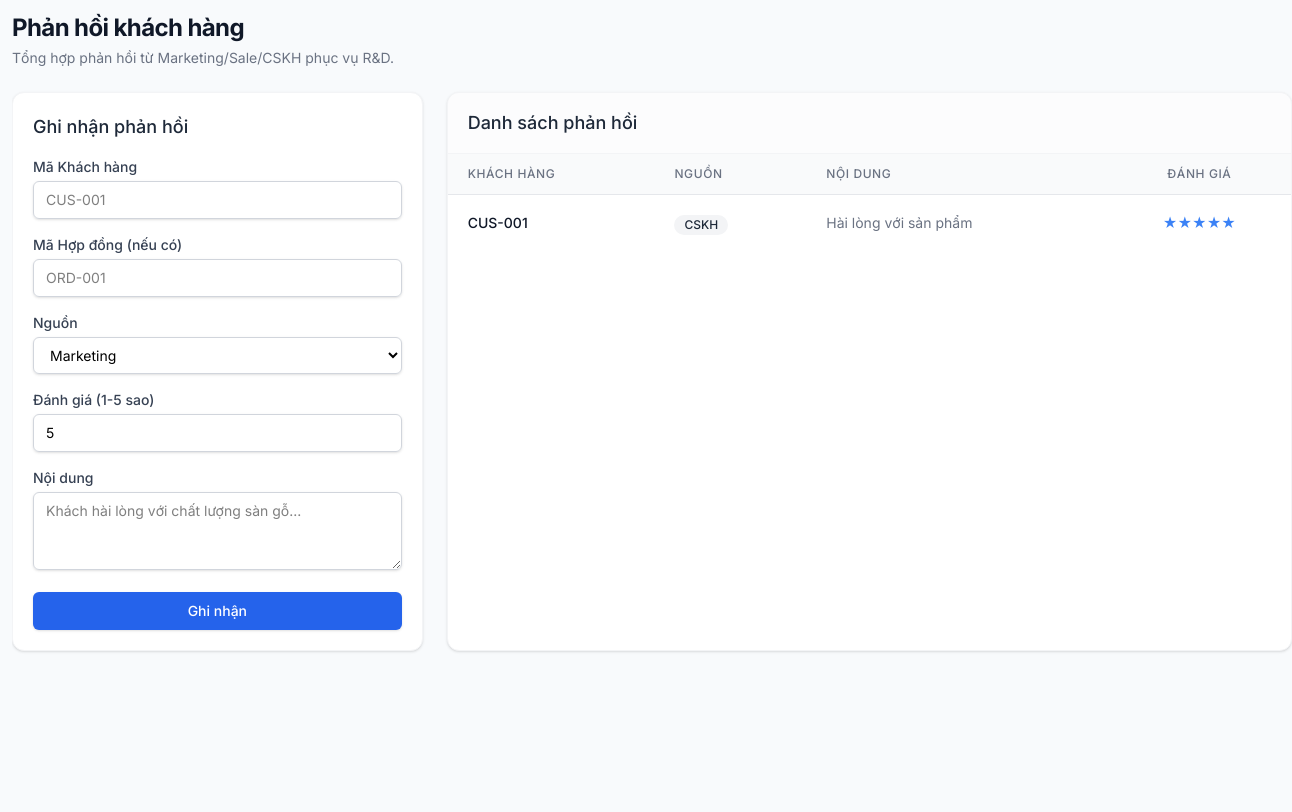
Test: FeedbacksPage › hiển thị danh sách phản hồi và ghi nhận mới qua form
The width and height of the screenshot is (1292, 812).
expect the text "Hài lòng với sản phẩm" is shown: met, box top-left (806, 194), bottom-right (1108, 251)
Step 1. Type "CUS-002" into the field labelled "Mã Khách hàng" → x=217, y=200, box top-left (33, 181), bottom-right (402, 219)
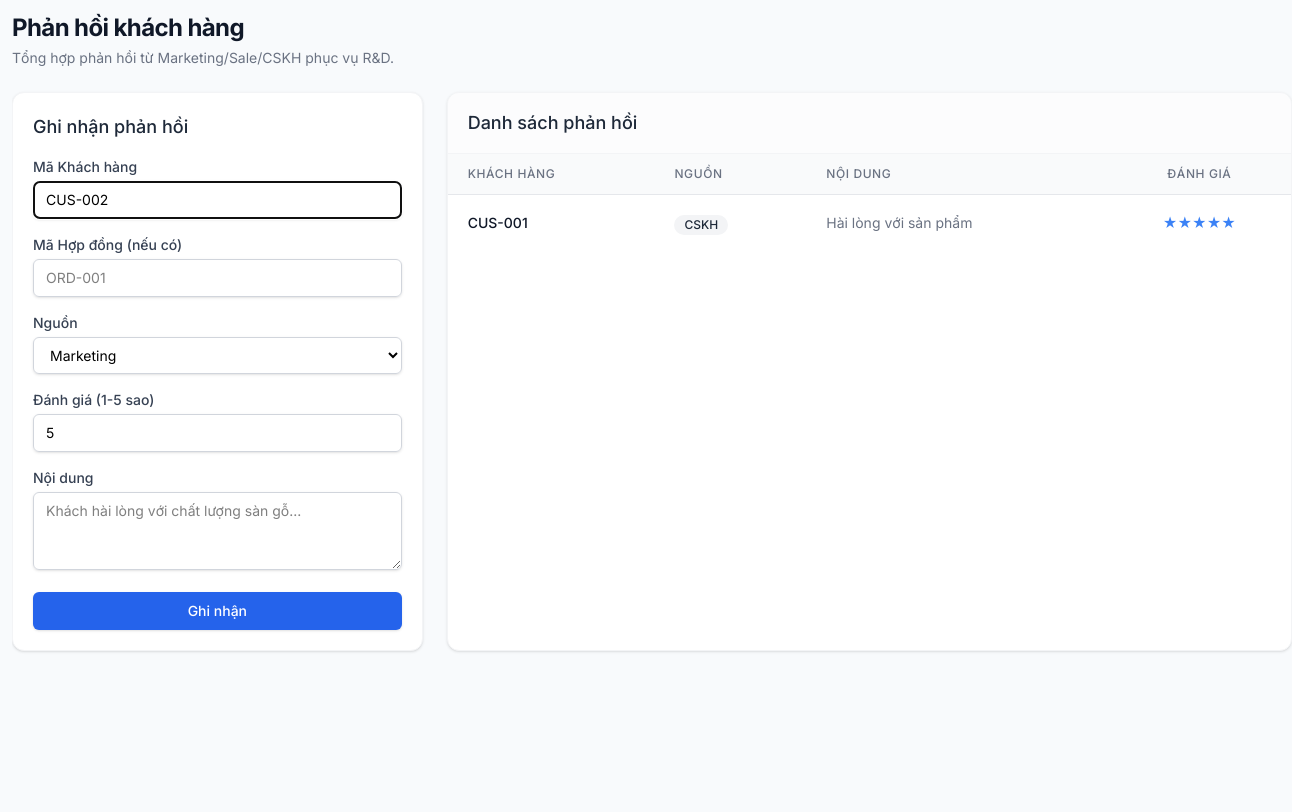
Step 2. Select "Sale" in the dropdown labelled "Nguồn" → x=217, y=356, box top-left (33, 337), bottom-right (402, 374)
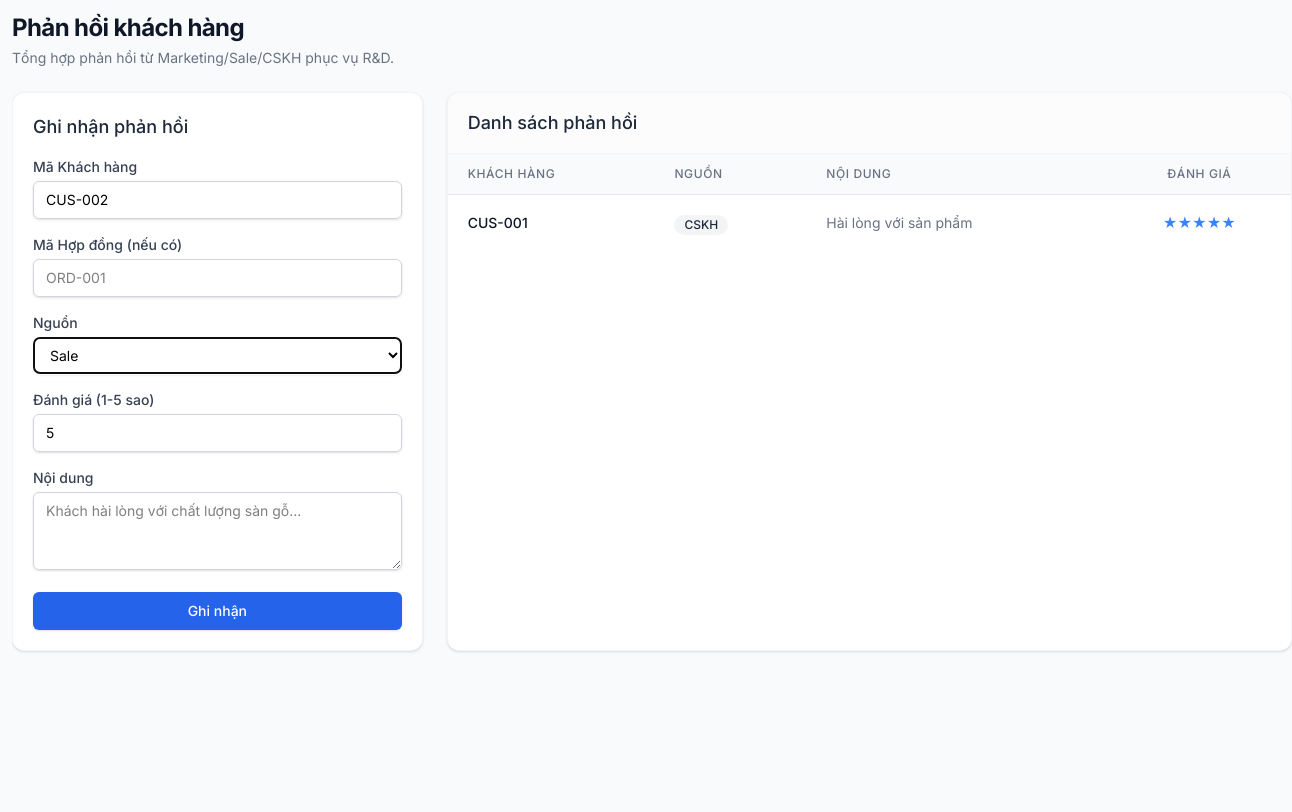
Step 3. Type "Giao hàng nhanh" into the text box labelled "Nội dung" → x=217, y=531, box top-left (33, 492), bottom-right (402, 570)
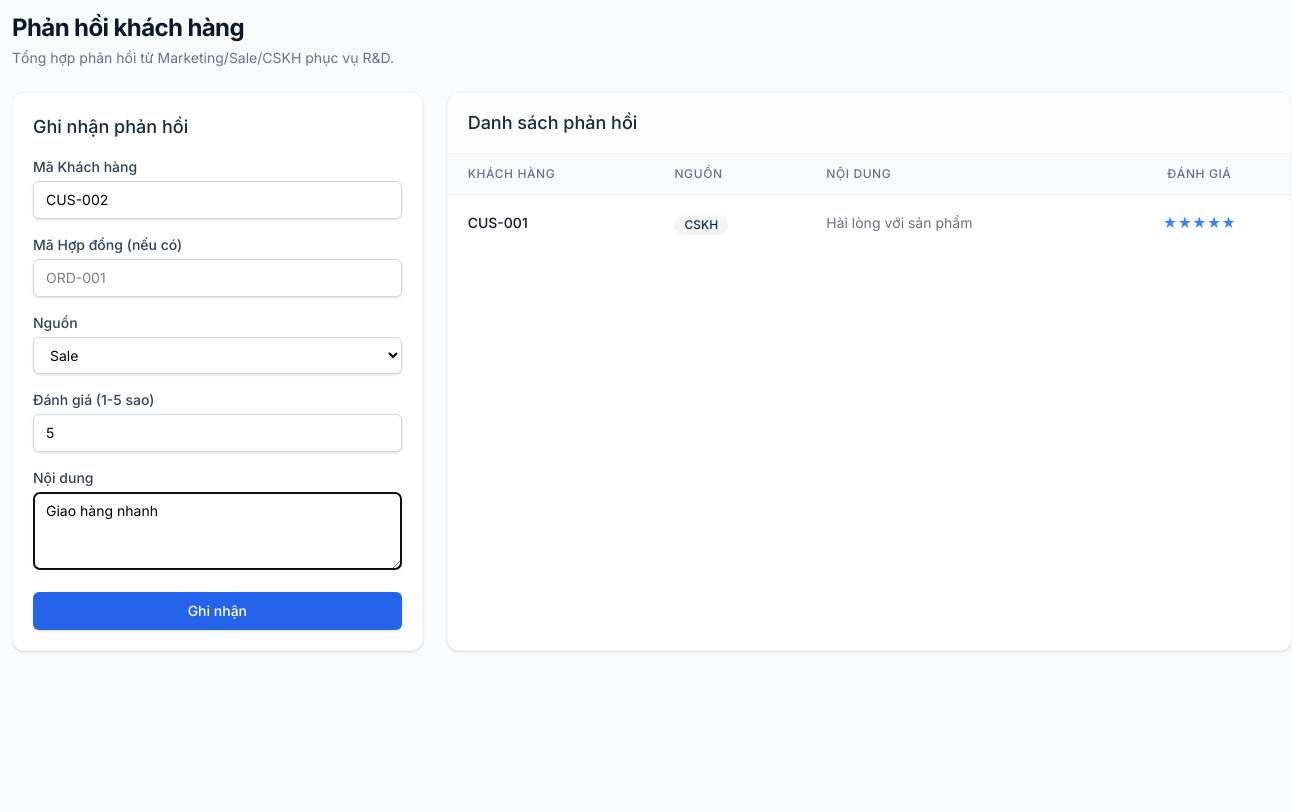
Step 4. Click the button "Ghi nhận" → x=217, y=611, box top-left (33, 592), bottom-right (402, 630)
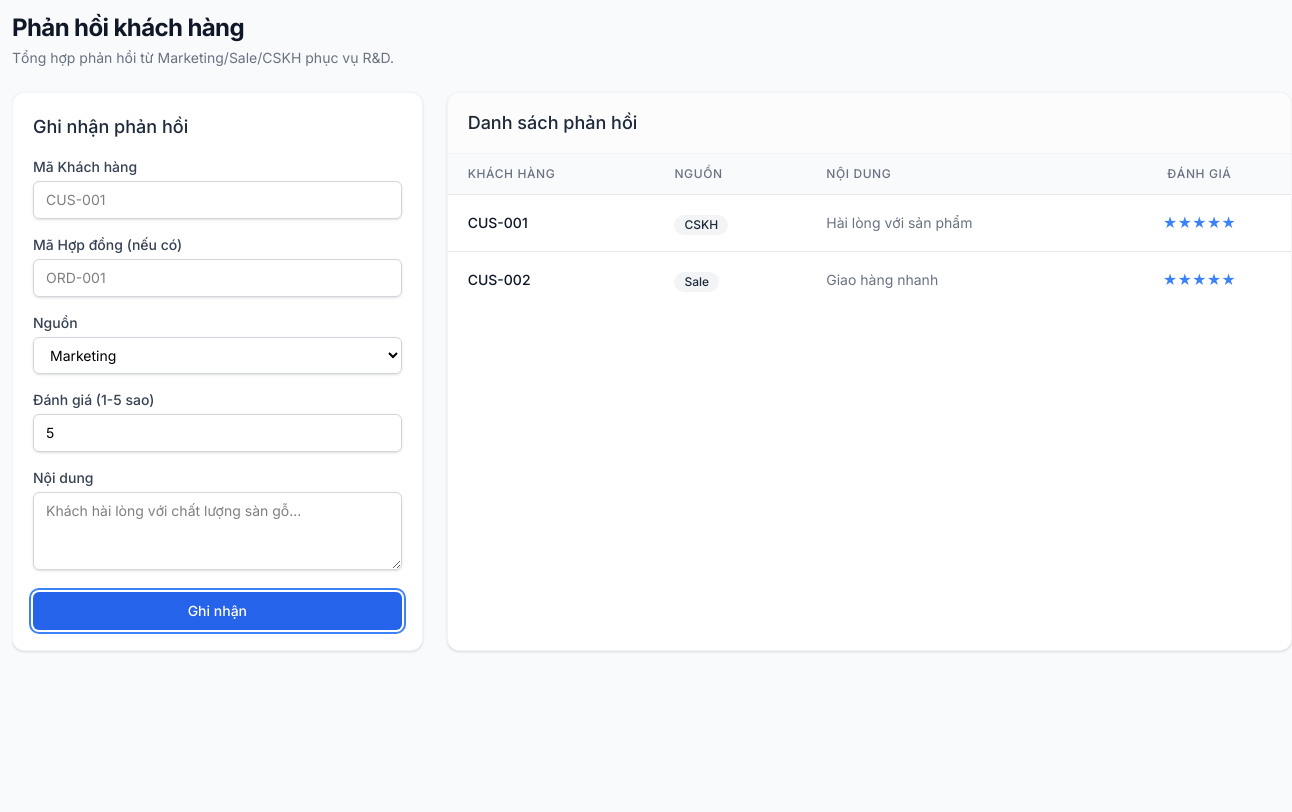
expect the text "Giao hàng nhanh" is shown: met, box top-left (806, 252), bottom-right (1108, 308)
